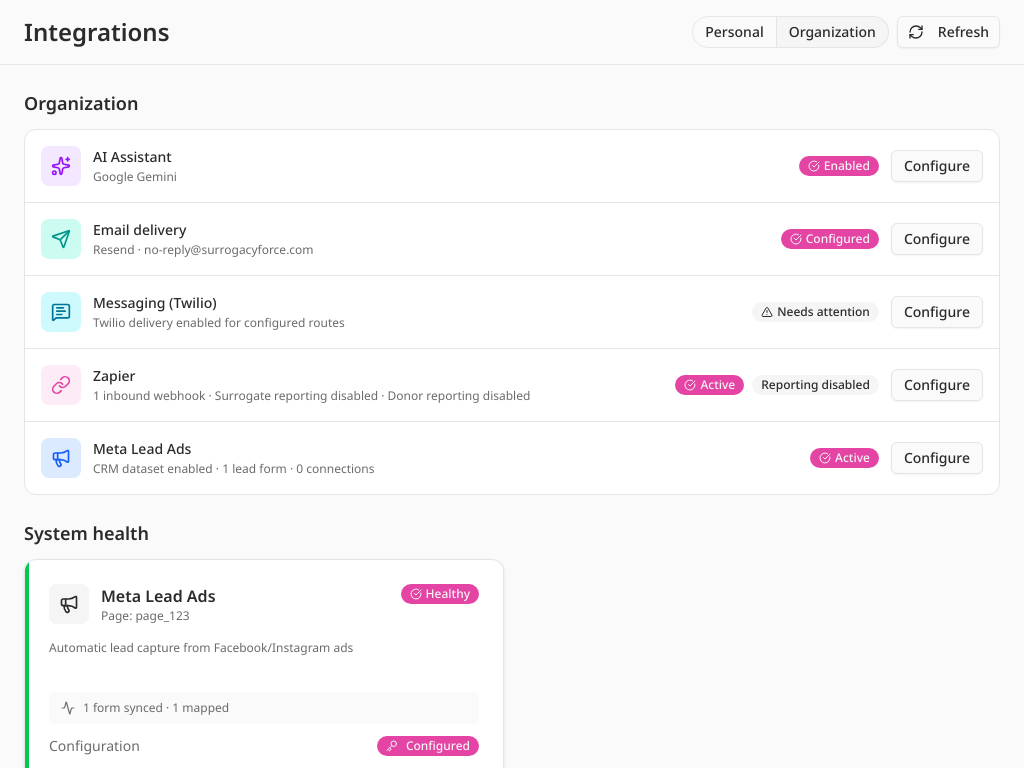
it: IntegrationsPage › shows configured webhook tracking without an apparently empty secret field
The image size is (1024, 768).
Click the button with aria-label "configure email". click: (937, 239)
box: [891,223,983,255]
(page scrolled)
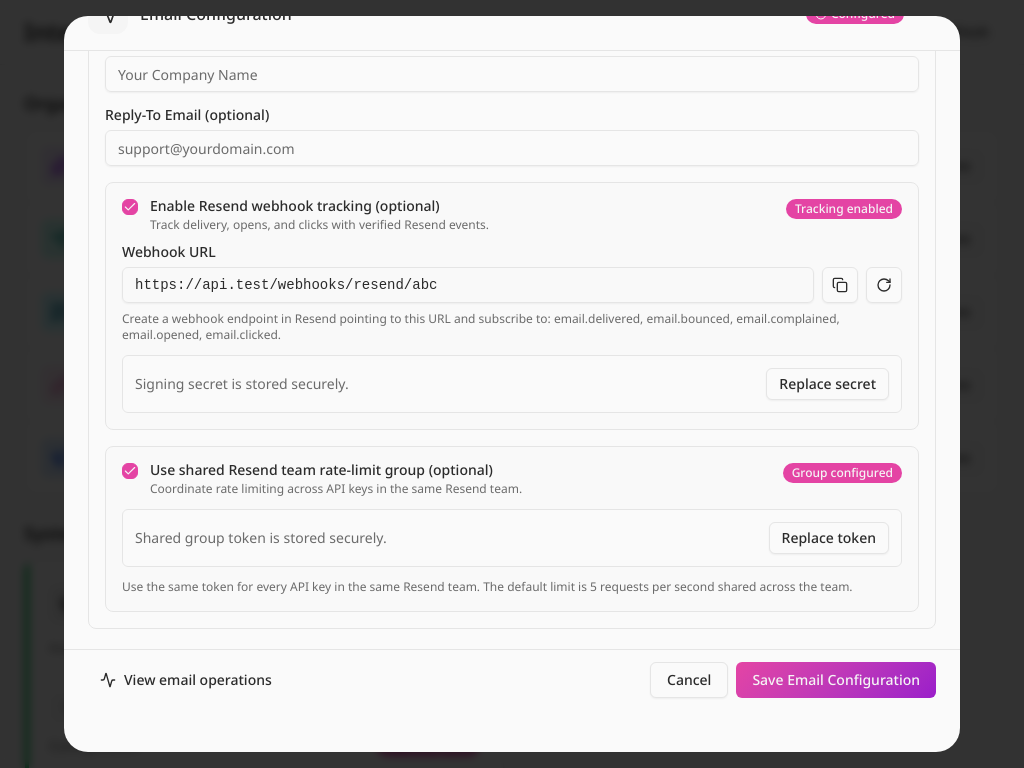
Expected: the checkbox named "enable resend webhook tracking" in the row of "Tracking enabled" is checked, [122,199,138,215]
Expected: the text "Tracking enabled" is shown, [786,199,902,219]
Expected: the text "Signing secret is stored securely." is shown, [135,374,349,394]
